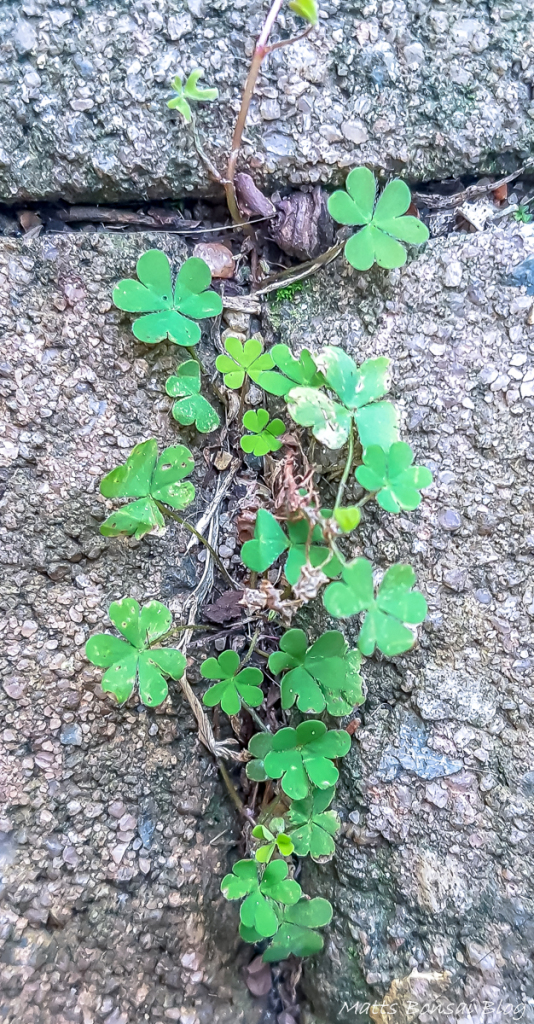oxalis: (122, 232, 442, 967), (315, 128, 429, 301)
